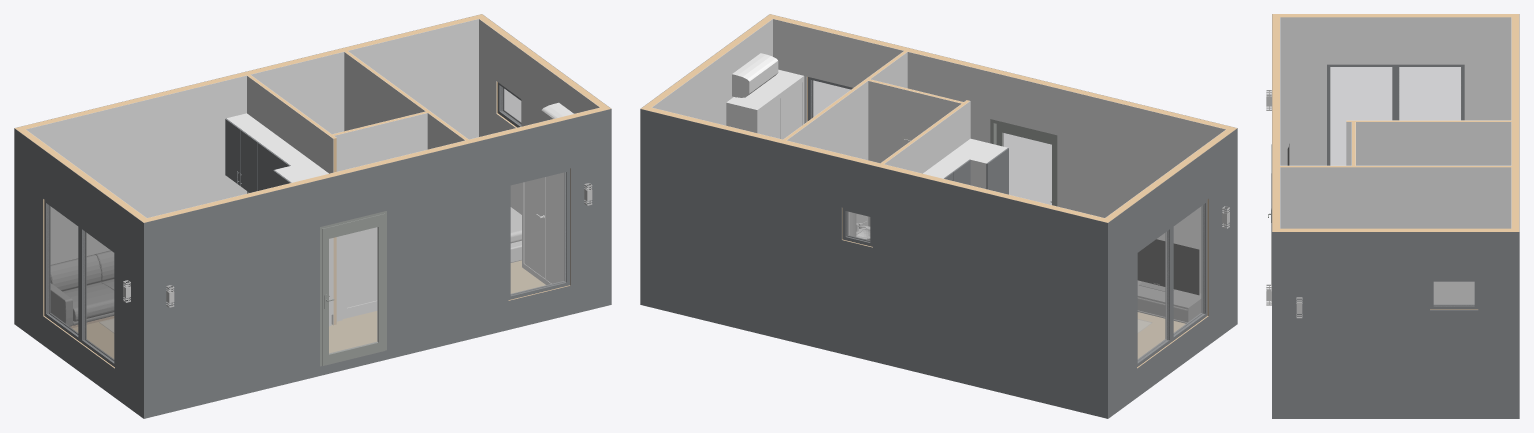
File: Violeta.zeleznova_(3,6x7,5m)_R01.fbx
The picture shows the model from 3 angles, left to right: view 1: azimuth 30°, elevation 25°; view 2: azimuth 150°, elevation 25°; view 3: azimuth 270°, elevation 25°; orthographic projection. The views are drawn at different scales.
Parts seen in each view (by area): view 1: IfcWall/Part:2319977, IfcWall/Part:2319982, IfcWall/Part:2347281, IfcDoor/Lauko durys:1000x2100 (dešininės):2303655, IfcWindow/Langai:1000 x 1800 (kairinis):2323088, IfcWall/Part:2319979, IfcFurnishingElement/Cabinet_-_Storage:1300 x 500 x 2100mm:2, IfcWindow/Langai:1000 x 1800:2317786, IfcWindow/Langai:1000 x 1800 (dešininis):2376220, IfcFurnishingElement/Bolia - North Seater Sofa:2 1/2 Seater:, IfcWall/Part:2319970, IfcWall/Part:2321694 (+14 smaller); view 2: IfcWall/Part:2319983, IfcWall/Part:2319976, IfcWall/Part:2347281, IfcWindow/Langai:1000 x 1800 (dešininis):2376220, IfcWall/Part:2319971, IfcWindow/Langai:1000 x 1800:2317786, IfcWall/Part:2319979, IfcDoor/Lauko durys:1000x2100 (dešininės):2303655, IfcFurnishingElement/Cabinet_-_Storage:1300 x 500 x 2100mm:2, IfcWall/Part:2321861, IfcWall/Part:2321694, IfcBuildingElementProxy/TV Sony1:TV Sony 2:2319310 (+12 smaller); view 3: IfcWall/Part:2319980, IfcWall/Part:2347280, IfcWall/Part:2319967, IfcWall/Part:2376719, IfcWindow/Langai:1000 x 1800 (dešininis):2376220, IfcWindow/Langai:1000 x 1800:2317786, IfcWall/Part:2319984, IfcWall/Part:2319978, IfcWindow/Langai:500 x 700:2380188, IfcDoor/Vidaus durys:800x2100mm (kairinės):2324605, IfcWall/Part:2319981, IfcWall/Part:2347282 (+4 smaller).
Boxes of the visible parts, bbox=[...] form: IfcWall/Part:2319977: bbox=[143, 109, 611, 418]; IfcWall/Part:2319982: bbox=[26, 19, 478, 264]; IfcWall/Part:2347281: bbox=[14, 128, 143, 418]; IfcDoor/Lauko durys:1000x2100 (dešininės):2303655: bbox=[320, 211, 386, 366]; IfcWindow/Langai:1000 x 1800 (kairinis):2323088: bbox=[508, 168, 569, 300]; IfcWall/Part:2319979: bbox=[479, 19, 599, 214]; IfcFurnishingElement/Cabinet_-_Storage:1300 x 500 x 2100mm:2: bbox=[522, 172, 564, 284]; IfcWindow/Langai:1000 x 1800:2317786: bbox=[44, 200, 80, 341]; IfcWindow/Langai:1000 x 1800 (dešininis):2376220: bbox=[80, 226, 114, 367]; IfcFurnishingElement/Bolia - North Seater Sofa:2 1/2 Seater:: bbox=[50, 250, 114, 328]; IfcWall/Part:2319970: bbox=[334, 113, 427, 321]; IfcWall/Part:2321694: bbox=[247, 76, 333, 324]; IfcWall/Part:2319983: bbox=[640, 109, 1108, 418]; IfcWall/Part:2319976: bbox=[773, 19, 1225, 293]; IfcWall/Part:2347281: bbox=[1108, 128, 1237, 418]; IfcWindow/Langai:1000 x 1800 (dešininis):2376220: bbox=[1171, 200, 1207, 341]; IfcWall/Part:2319971: bbox=[868, 81, 961, 226]; IfcWindow/Langai:1000 x 1800:2317786: bbox=[1137, 226, 1172, 367]; IfcWall/Part:2319979: bbox=[652, 19, 772, 125]; IfcDoor/Lauko durys:1000x2100 (dešininės):2303655: bbox=[990, 119, 1057, 206]; IfcFurnishingElement/Cabinet_-_Storage:1300 x 500 x 2100mm:2: bbox=[726, 69, 804, 139]; IfcWall/Part:2321861: bbox=[787, 81, 868, 225]; IfcWall/Part:2321694: bbox=[884, 101, 970, 173]; IfcBuildingElementProxy/TV Sony1:TV Sony 2:2319310: bbox=[1137, 239, 1199, 295]; IfcWall/Part:2319980: bbox=[1272, 232, 1519, 418]; IfcWall/Part:2347280: bbox=[1280, 17, 1511, 165]; IfcWall/Part:2319967: bbox=[1280, 167, 1511, 304]; IfcWall/Part:2376719: bbox=[1356, 122, 1511, 165]; IfcWindow/Langai:1000 x 1800 (dešininis):2376220: bbox=[1327, 64, 1396, 165]; IfcWindow/Langai:1000 x 1800:2317786: bbox=[1394, 64, 1464, 120]; IfcWall/Part:2319984: bbox=[1511, 14, 1519, 231]; IfcWall/Part:2319978: bbox=[1272, 14, 1279, 228]; IfcWindow/Langai:500 x 700:2380188: bbox=[1430, 279, 1478, 309]; IfcDoor/Vidaus durys:800x2100mm (kairinės):2324605: bbox=[1286, 212, 1345, 228]; IfcWall/Part:2319981: bbox=[1272, 228, 1511, 309]; IfcWall/Part:2347282: bbox=[1280, 14, 1511, 17].
Size of the model in its own units: 766 by 300 by 368.
